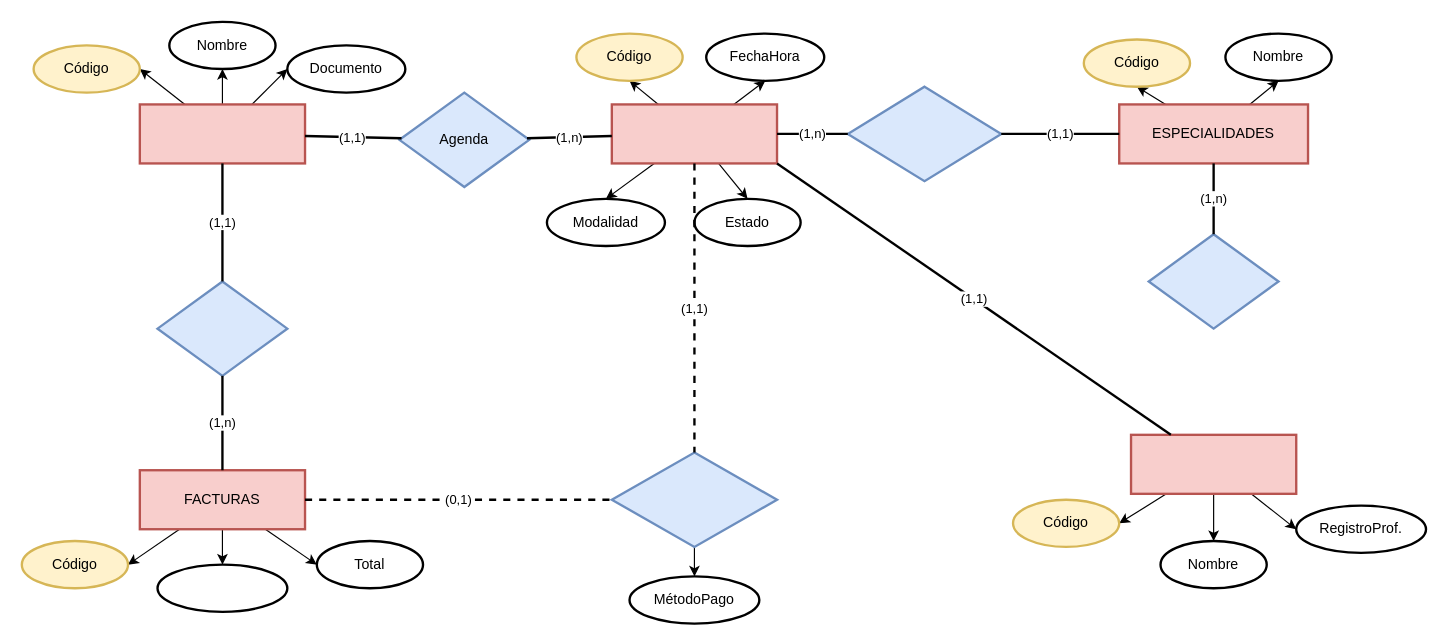
The diagram is 1447 pixels wide and 644 high, and some of its shapes have lost their labels. Each missing label, with the box of its shape:
Atiende: (1147, 232, 1279, 329)
CITAS: (610, 103, 778, 164)
Corresponde: (846, 85, 1002, 182)
FacturaPor: (610, 451, 778, 548)
FechaEmisión: (156, 563, 288, 612)
Genera: (156, 280, 288, 376)
MÉDICOS: (1129, 433, 1297, 494)
PACIENTES: (138, 103, 306, 164)
